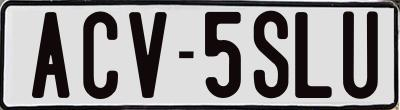5: (203, 11, 240, 98)
A: (32, 11, 70, 98)
C: (81, 9, 122, 101)
L: (294, 12, 336, 98)
S: (252, 10, 293, 97)
U: (340, 9, 376, 101)
V: (126, 11, 166, 98)
